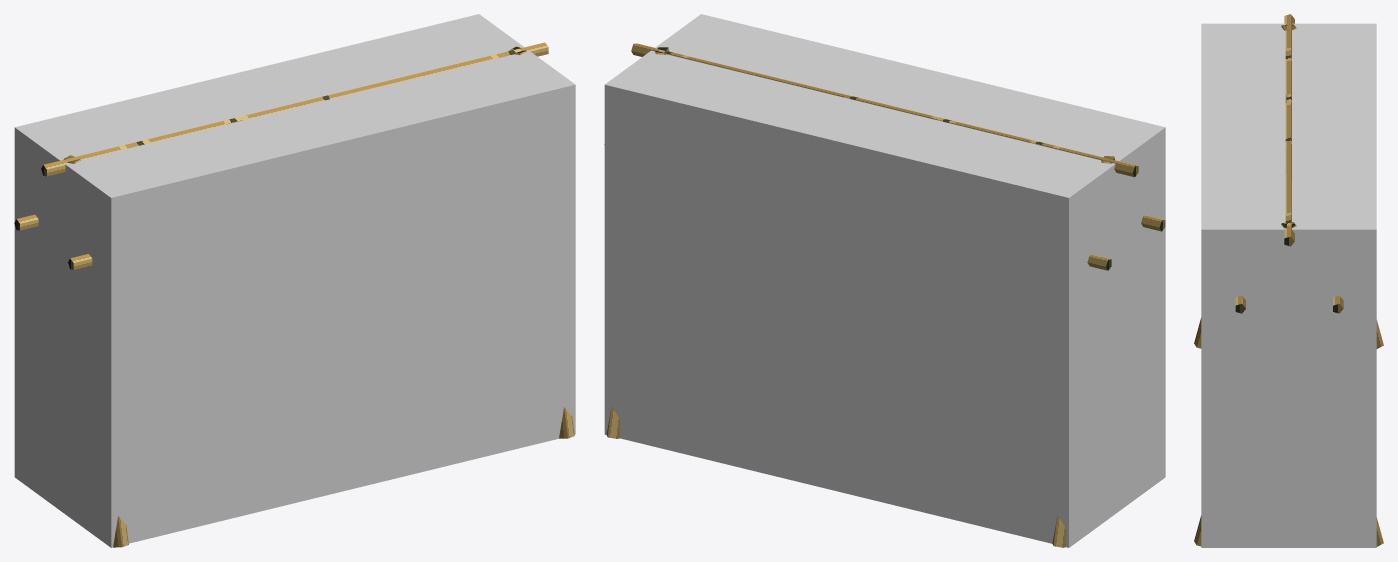
File: JP_Prop_FishRack_A.glb
The picture shows the model from 3 angles, left to right: view 1: azimuth 30°, elevation 25°; view 2: azimuth 150°, elevation 25°; view 3: azimuth 270°, elevation 25°; orthographic projection. The views are drawn at different scales.
Visible parts, largest first — view 1: COL_JP_Prop_FishRack_A, JP_Prop_FishRack_A; view 2: COL_JP_Prop_FishRack_A, JP_Prop_FishRack_A; view 3: COL_JP_Prop_FishRack_A, JP_Prop_FishRack_A.
Boxes of the visible parts, x1,y1,x2,y2 form: COL_JP_Prop_FishRack_A: (14, 14, 575, 547); JP_Prop_FishRack_A: (14, 42, 574, 547); COL_JP_Prop_FishRack_A: (604, 14, 1165, 547); JP_Prop_FishRack_A: (604, 43, 1165, 547); COL_JP_Prop_FishRack_A: (1201, 23, 1376, 547); JP_Prop_FishRack_A: (1194, 14, 1383, 546).
Size of the model in its own units: 2.7 by 1.82 by 0.9738.
1 material, 1 textured.
